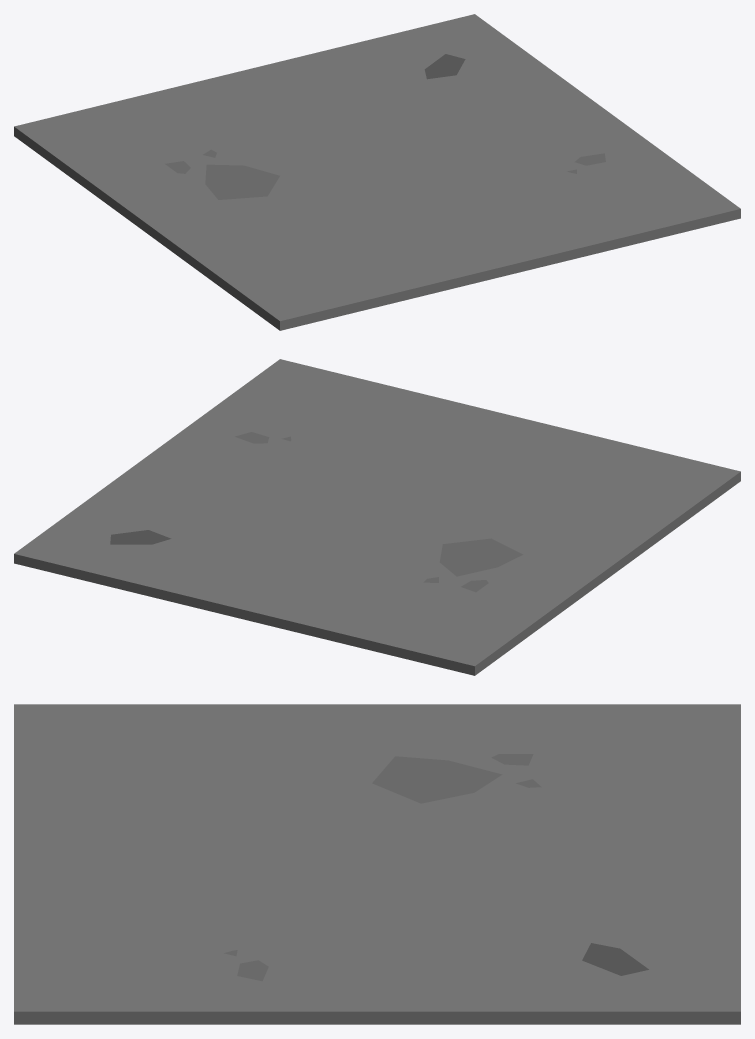
Rendered from Floor_02.fbx.
3 views of the same model, one above another, from view 1: azimuth 30°, elevation 25°; view 2: azimuth 150°, elevation 25°; view 3: azimuth 270°, elevation 25° (orthographic). The views are drawn at different scales.
Parts seen in each view (by area): view 1: Floor_02; view 2: Floor_02; view 3: Floor_02.
Boxes of the visible parts, bbox=[...] form: Floor_02: bbox=[14, 14, 740, 330]; Floor_02: bbox=[14, 359, 740, 675]; Floor_02: bbox=[14, 704, 740, 1024].
Size of the model in its own units: 500 by 10 by 500.
